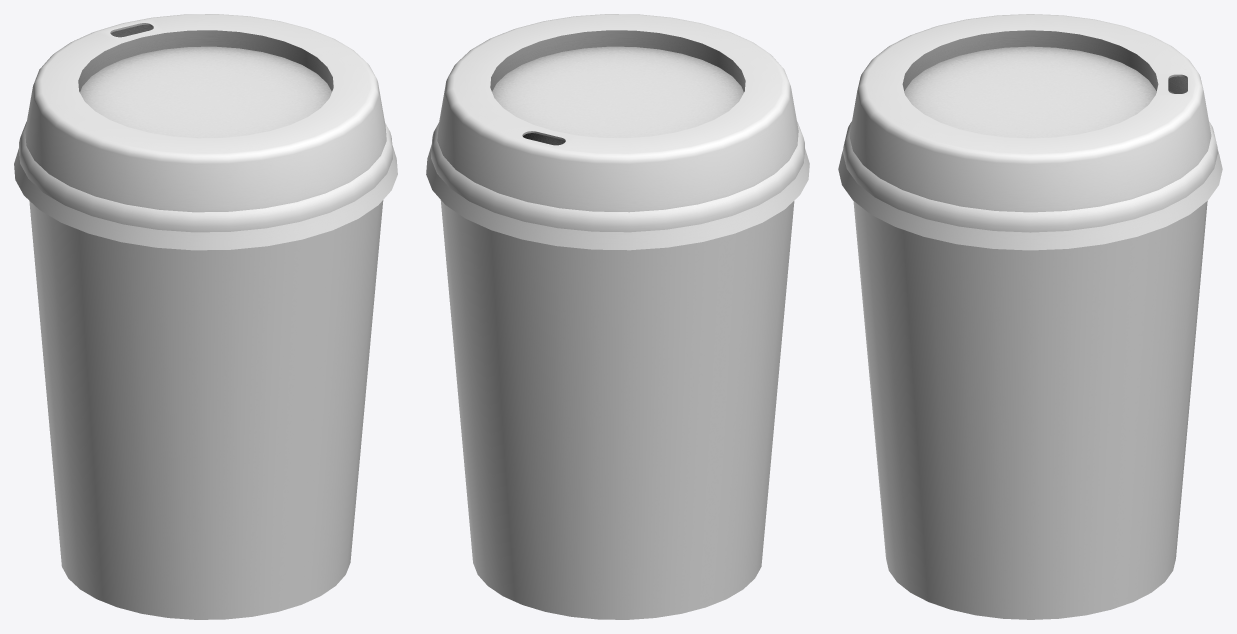
Rendered from coffee_cup.glb.
The picture shows the model from 3 angles, left to right: view 1: azimuth 30°, elevation 25°; view 2: azimuth 150°, elevation 25°; view 3: azimuth 270°, elevation 25°; orthographic projection.
Parts seen in each view (by area): view 1: CoffeeCup; view 2: CoffeeCup; view 3: CoffeeCup.
Part boxes in pixels (box(x1,y1,x2,y2)): CoffeeCup: box(14, 14, 397, 619); CoffeeCup: box(426, 14, 809, 619); CoffeeCup: box(838, 14, 1222, 619).
Size of the model in its own units: 0.0752 by 0.1024 by 0.0752.
Materials: 1 (1 with a texture image).
